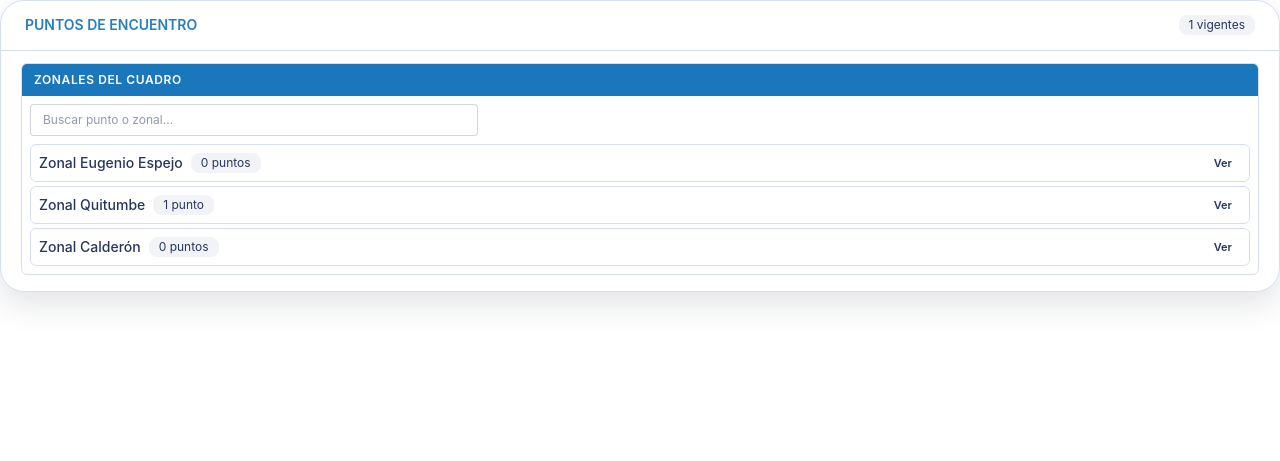
Test: obrar sobre un punto › el botón dice «Desactivar», no «Eliminar»
Click the button "Ver" in the row of "1 punto".
click(1223, 205)  # box [1205, 193, 1241, 217]
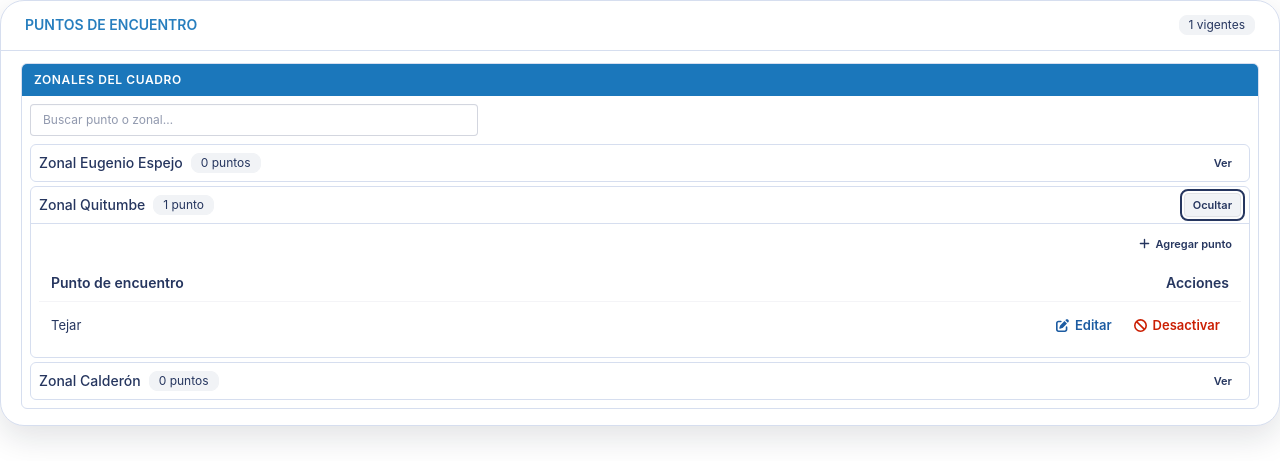
Expected: the button "Desactivar" is shown, [1125, 310, 1229, 342]
